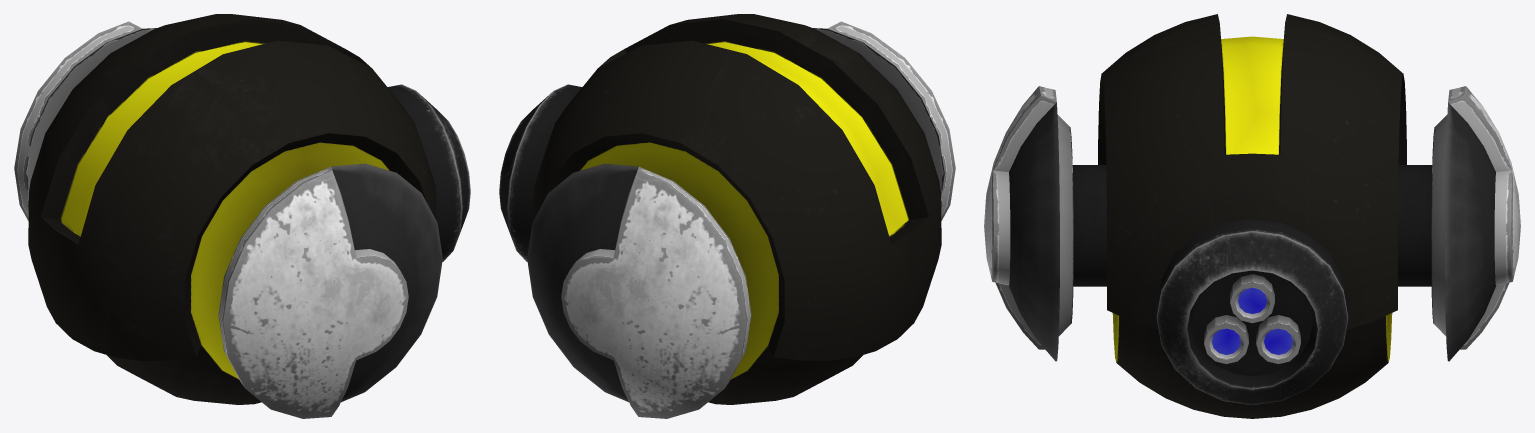
File: Drone.Obj
3 renders of one model, left to right at view 1: azimuth 30°, elevation 25°; view 2: azimuth 150°, elevation 25°; view 3: azimuth 270°, elevation 25°, orthographic. The views are drawn at different scales.
Visible parts, largest first — view 1: Drone; view 2: Drone; view 3: Drone.
Boxes of the visible parts, left/top/right/bottom form: Drone: left=14, top=14, right=470, bottom=418; Drone: left=499, top=14, right=955, bottom=418; Drone: left=984, top=14, right=1520, bottom=418.
Size of the model in its own units: 0.9228 by 0.8043 by 1.08.
